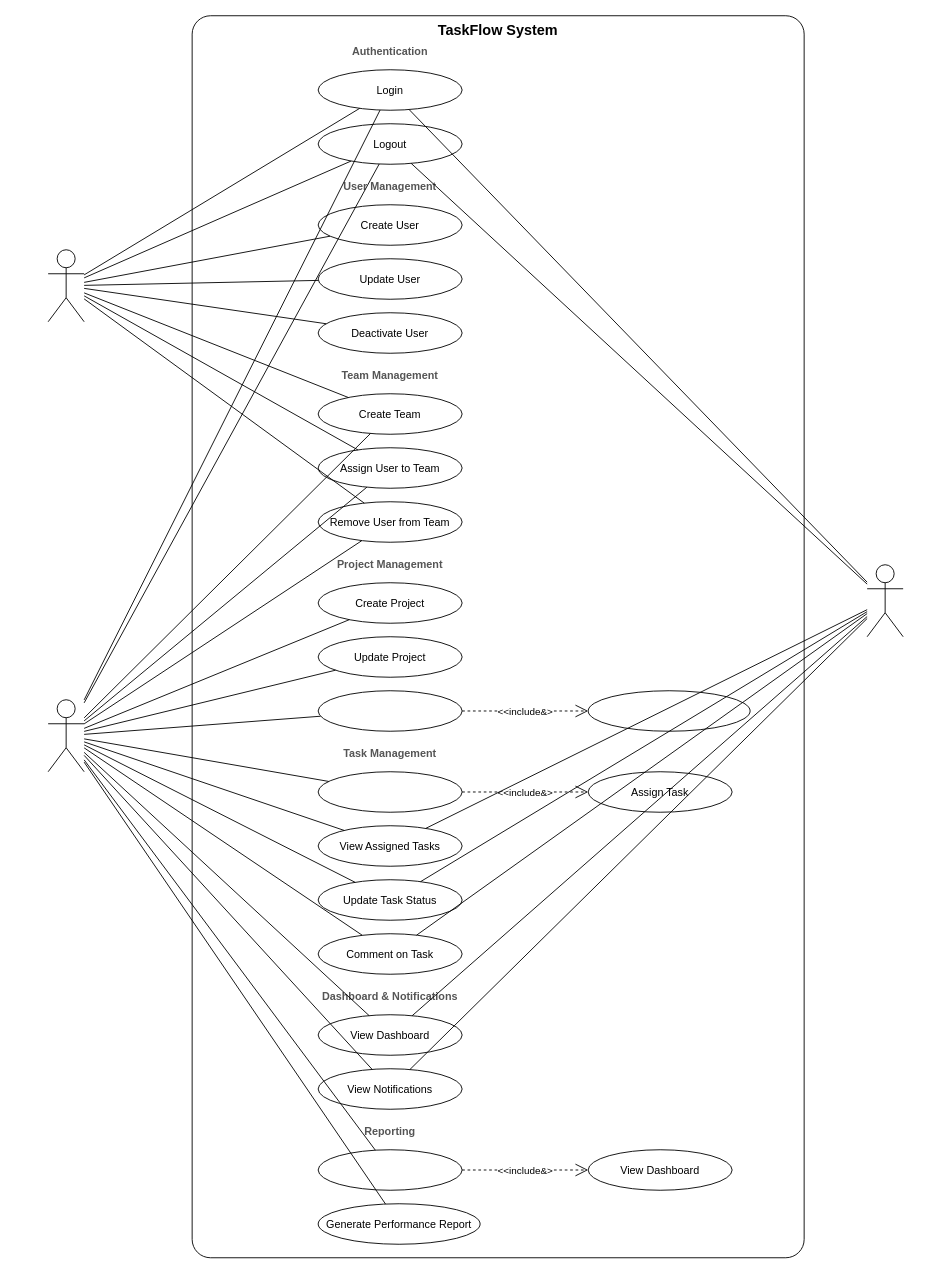
Image size: 935x1274. Some labels were removed from this diagram. Here are the shapes that lost their labels. From the top down, the centre of each, then its label:
At point 65,285: "System Administrator".
At point 884,600: "Team Member".
At point 389,710: "Archive Project".
At point 668,710: "Check All Tasks Completed".
At point 65,735: "Project Manager".
At point 389,791: "Create Task".
At point 389,1169: "Generate Project Report".
